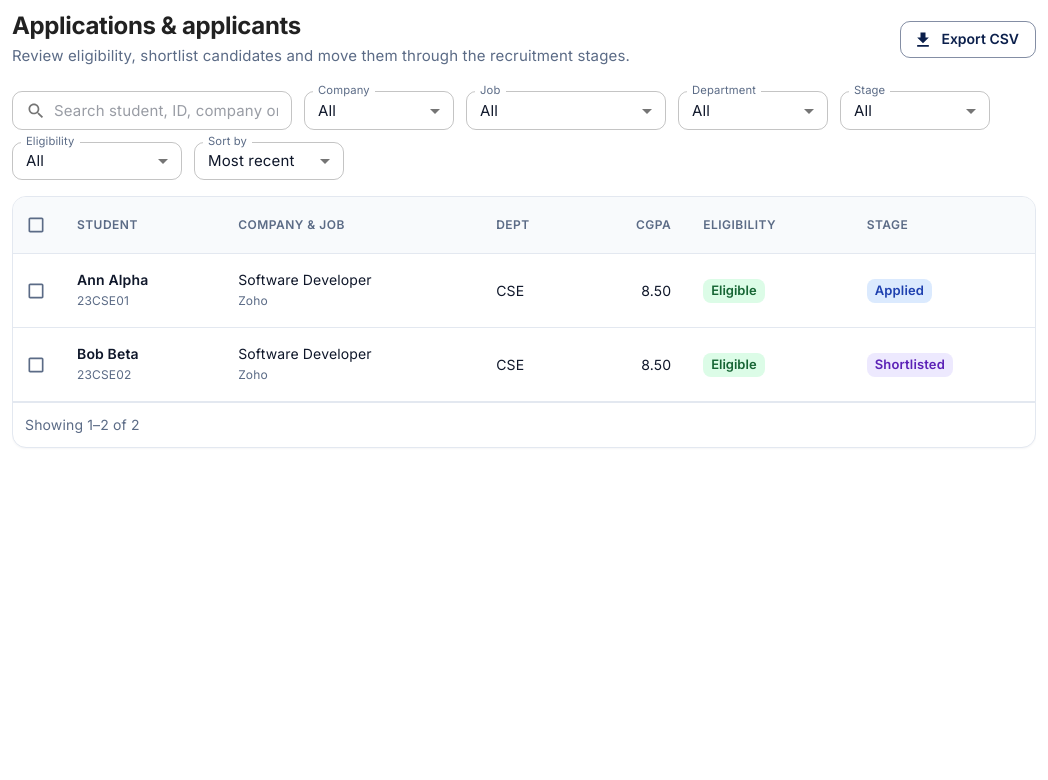
Test: faculty applications page › a failing export shows an error toast; a successful one a success toast
Click the button "Export CSV": point(968, 40) [900, 21, 1036, 58]
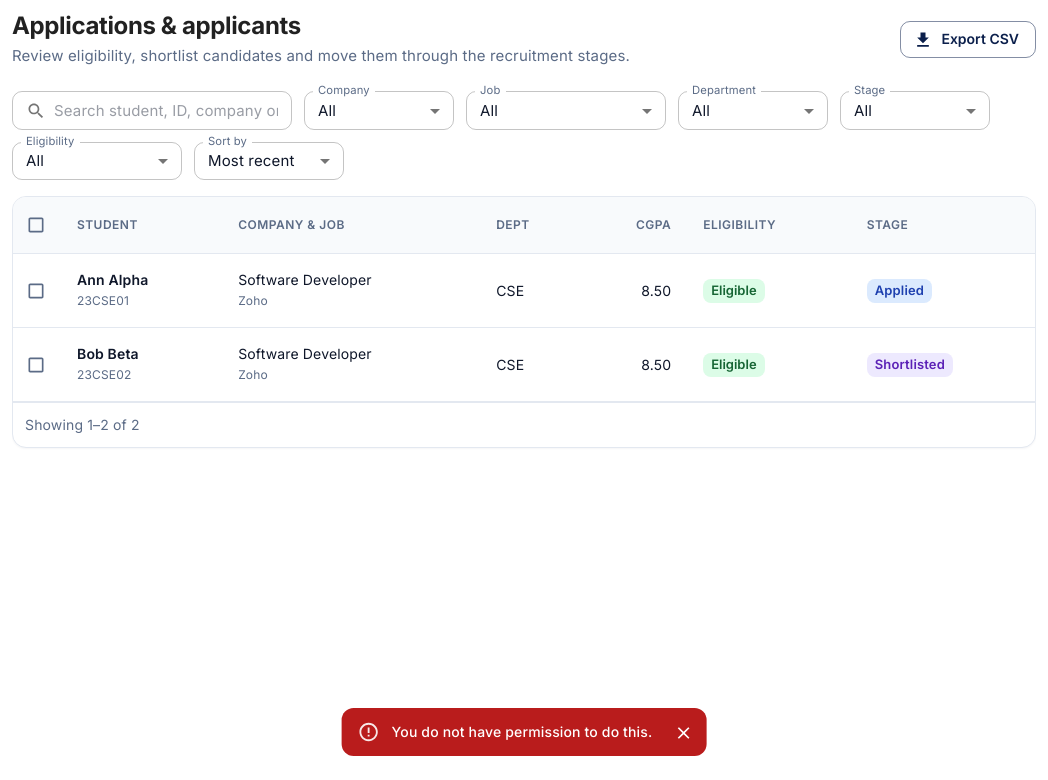
expect the text "You do not have permission to do this." is shown: met, box [392, 723, 652, 740]
Click the button "Export CSV": point(968, 40) [900, 21, 1036, 58]
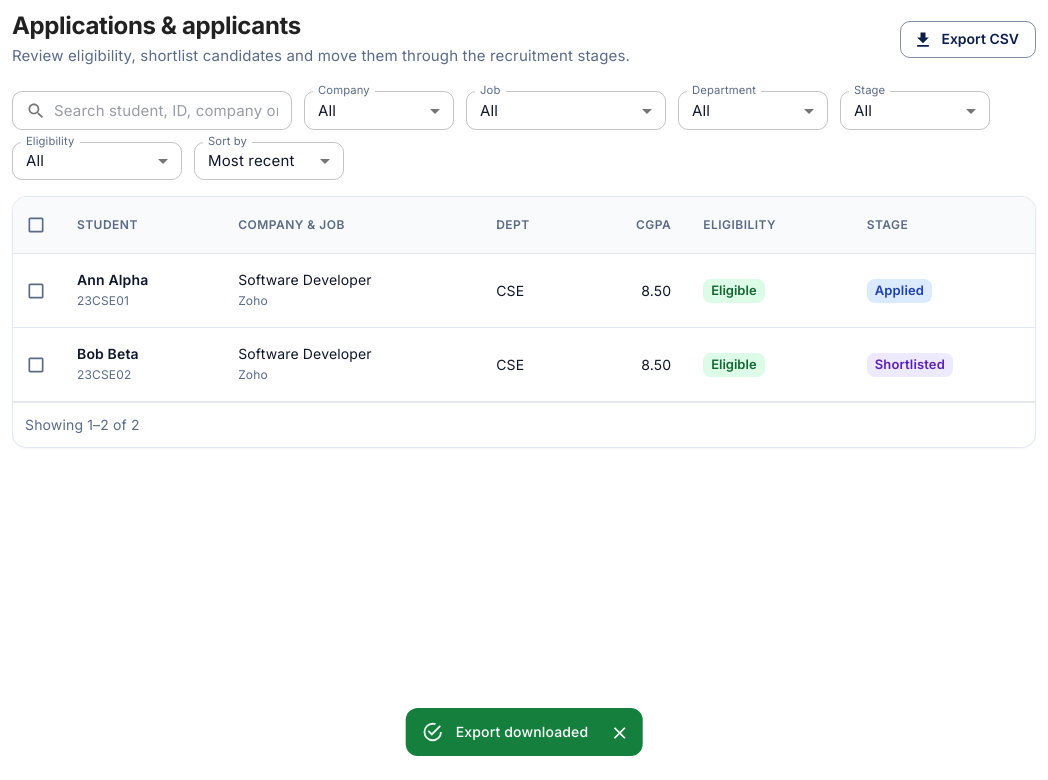
expect the text "Export downloaded" is shown: met, box [456, 723, 588, 740]
